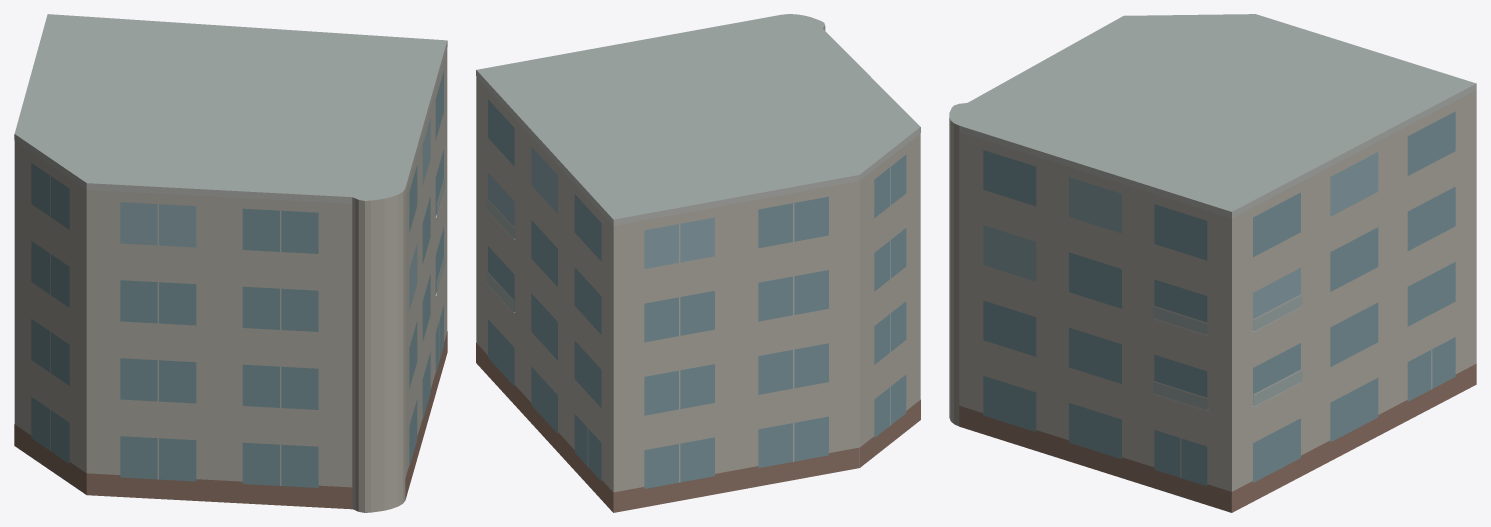
Rendered from survey-upis-32887067.glb.
3 renders of one model, left to right at view 1: azimuth 30°, elevation 25°; view 2: azimuth 150°, elevation 25°; view 3: azimuth 270°, elevation 25°, orthographic. The views are drawn at different scales.
Parts seen in each view (by area): view 1: survey-upis-32887067.tmp; view 2: survey-upis-32887067.tmp; view 3: survey-upis-32887067.tmp.
Part boxes in pixels (left/top/right/bottom): survey-upis-32887067.tmp: left=14, top=14, right=447, bottom=512; survey-upis-32887067.tmp: left=476, top=14, right=920, bottom=512; survey-upis-32887067.tmp: left=949, top=14, right=1476, bottom=512.
Size of the model in its own units: 16.23 by 11.5 by 18.27.
